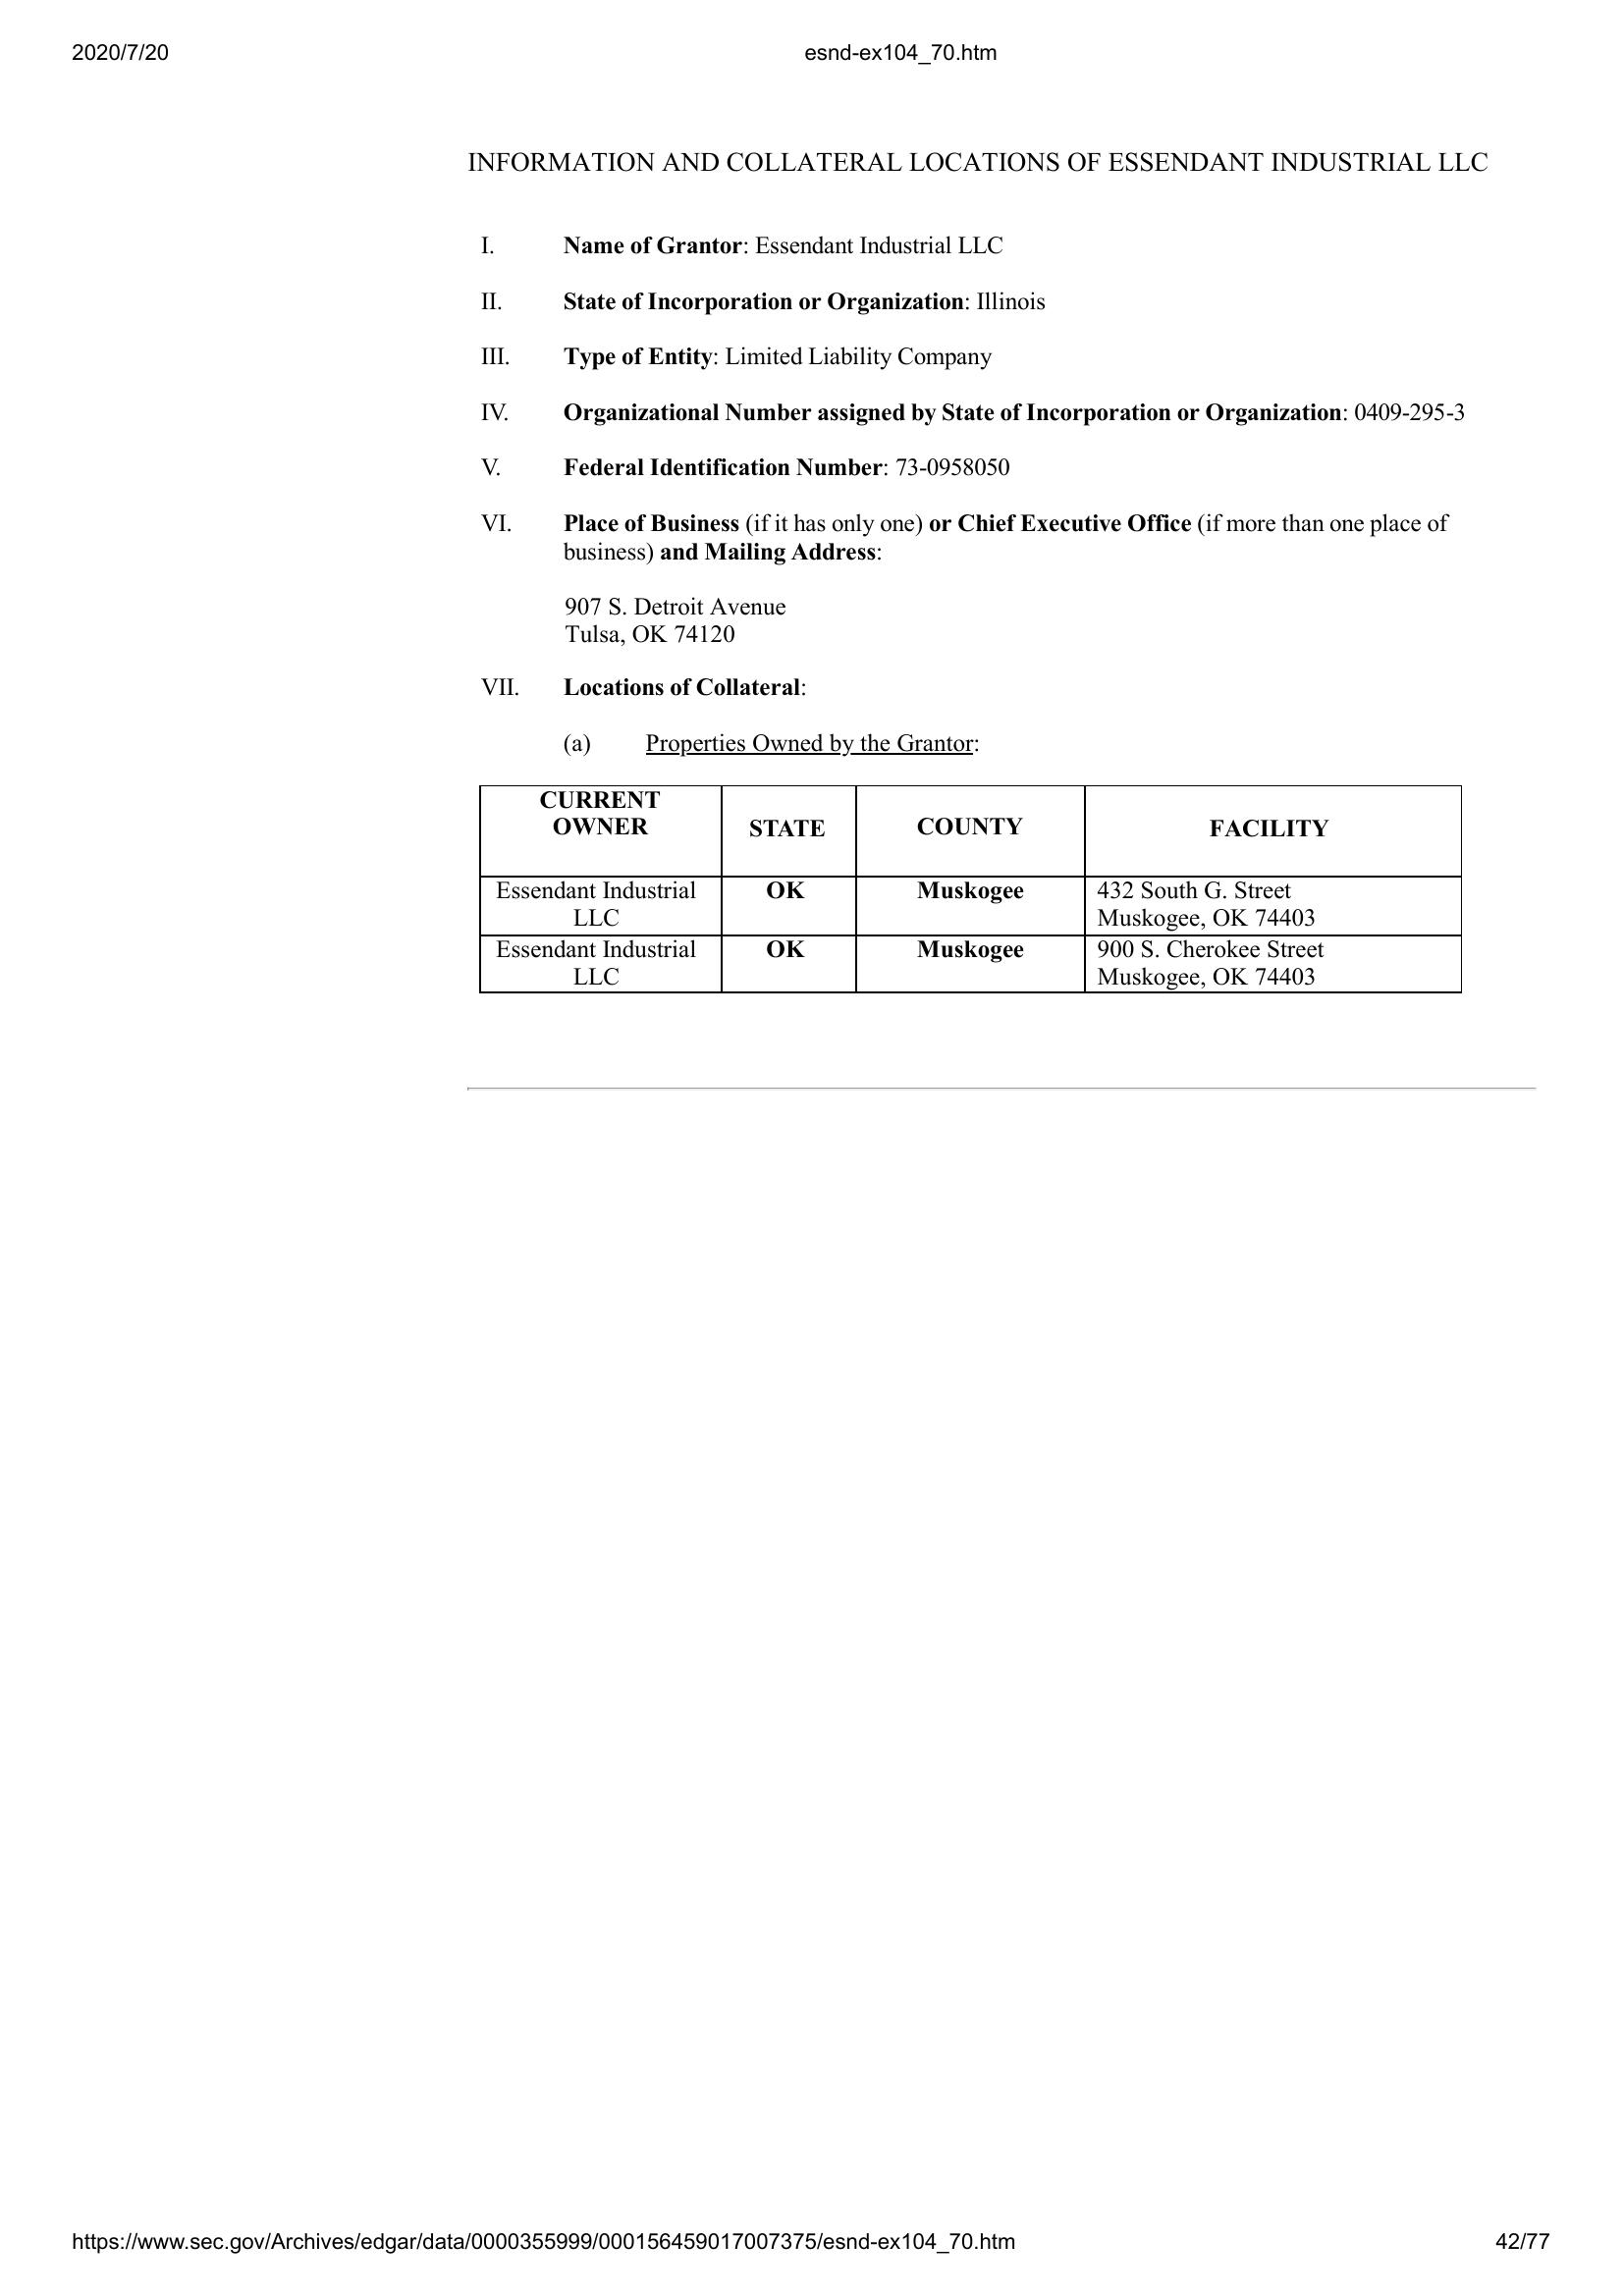table: (476, 785, 1470, 992)
